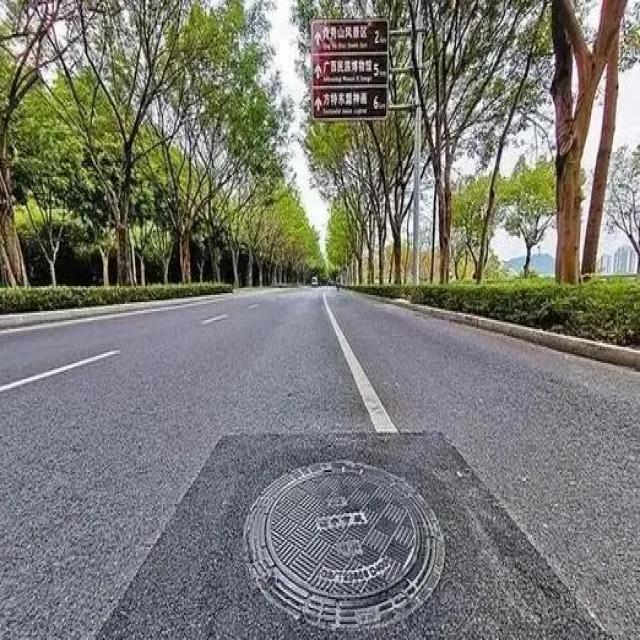manhole: (244, 461, 445, 629)
